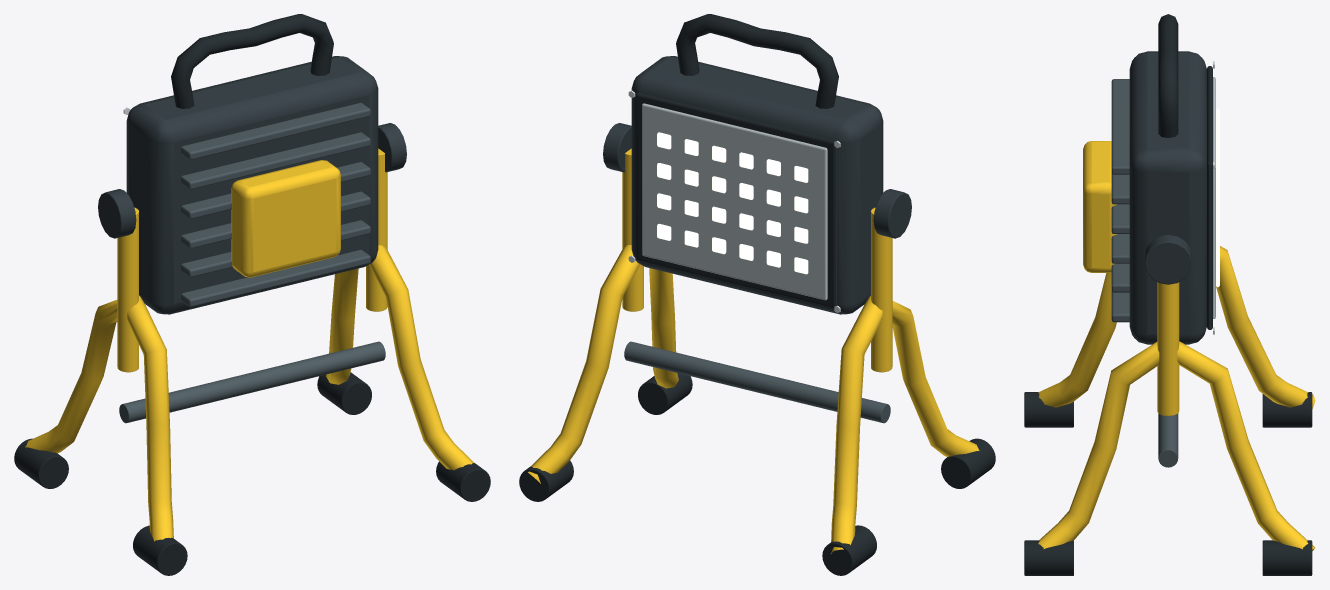
Rendered from portable_worklight.glb.
The picture shows the model from 3 angles, left to right: view 1: azimuth 30°, elevation 25°; view 2: azimuth 150°, elevation 25°; view 3: azimuth 270°, elevation 25°; orthographic projection.
Parts seen in each view (by area): view 1: portable_worklight_render_mesh; view 2: portable_worklight_render_mesh; view 3: portable_worklight_render_mesh.
Boxes of the visible parts, x1=… form: portable_worklight_render_mesh: x1=14, y1=14, x2=490, y2=575; portable_worklight_render_mesh: x1=519, y1=14, x2=995, y2=575; portable_worklight_render_mesh: x1=1024, y1=14, x2=1315, y2=575.
Size of the model in its own units: 0.39 by 0.5135 by 0.2934.
